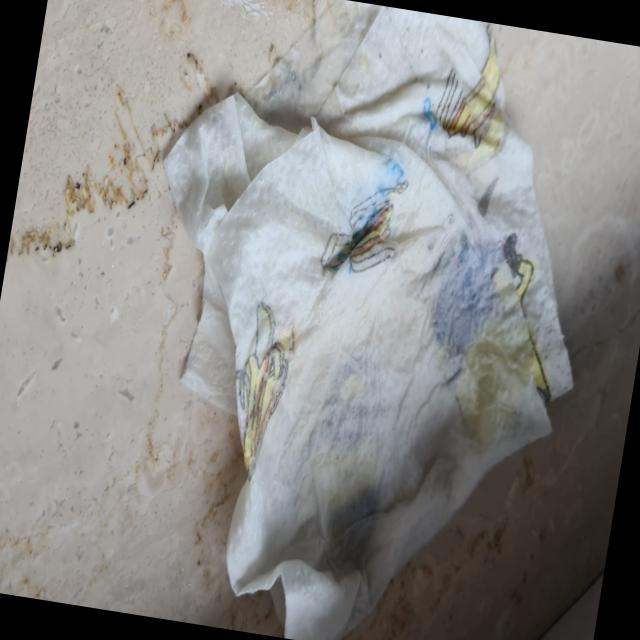organic waste: (87, 0, 630, 640)
